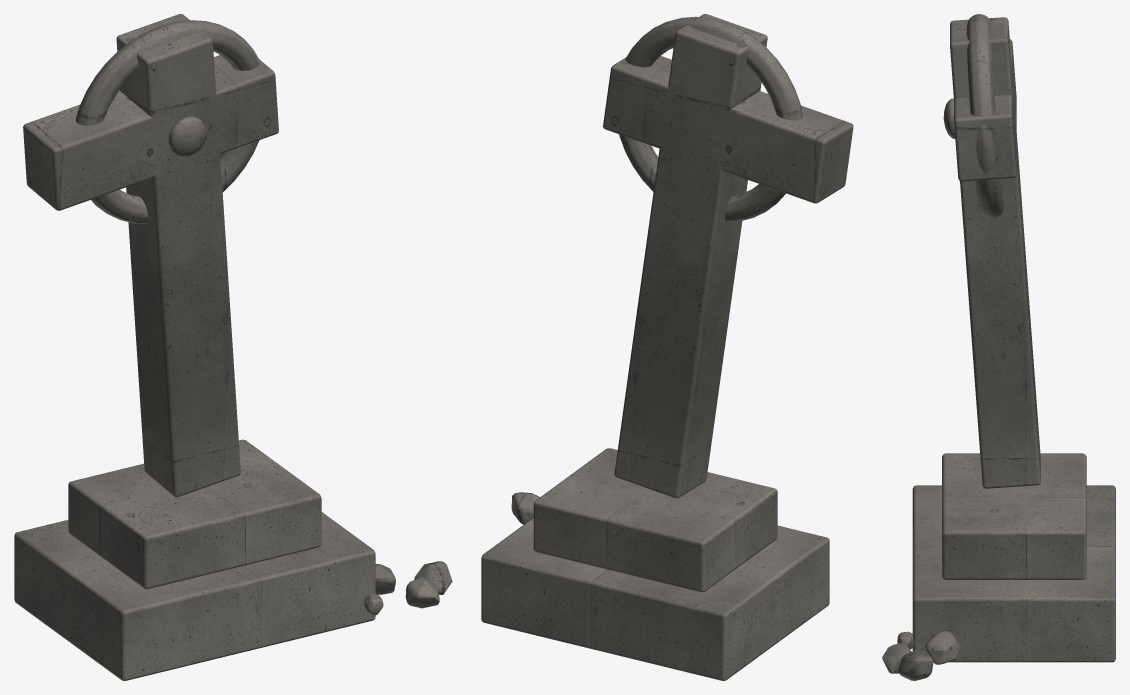
Rendered from Gravestone_C.gltf.
3 views of the same model, side by side, from view 1: azimuth 30°, elevation 25°; view 2: azimuth 150°, elevation 25°; view 3: azimuth 270°, elevation 25° (orthographic). The views are drawn at different scales.
Visible parts, largest first — view 1: Gravestone_C_Cross, Gravestone_C_Base; view 2: Gravestone_C_Cross, Gravestone_C_Base; view 3: Gravestone_C_Base, Gravestone_C_Cross.
Boxes of the visible parts, x1,y1,x2,y2 form: Gravestone_C_Cross: (23, 14, 278, 497); Gravestone_C_Base: (14, 439, 452, 680); Gravestone_C_Cross: (603, 14, 853, 498); Gravestone_C_Base: (481, 448, 829, 680); Gravestone_C_Base: (882, 453, 1115, 680); Gravestone_C_Cross: (943, 14, 1040, 488).
Size of what is drawn, in the model's own units: 0.8836 by 1.38 by 0.518.
Materials: 1 (1 with a texture image).
